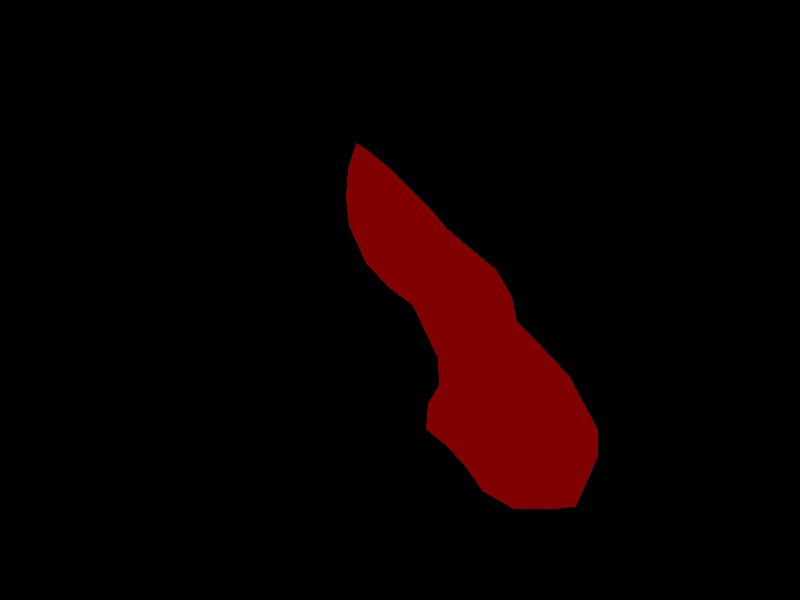fire: (346, 143, 597, 509)
